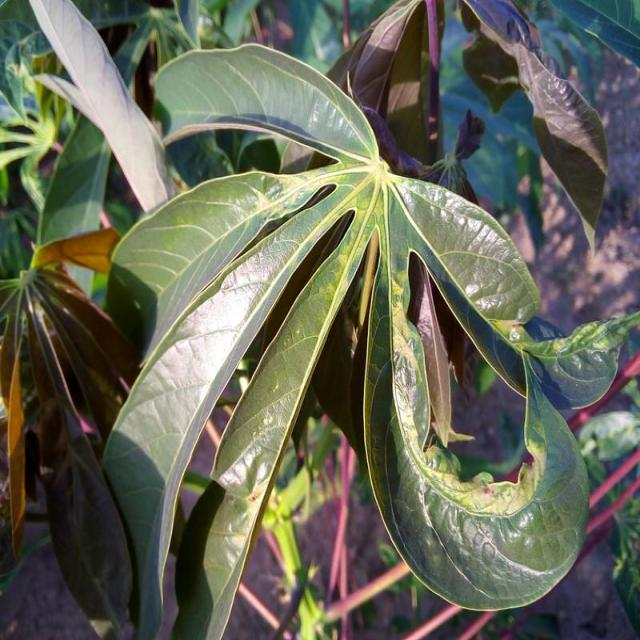cassava leaf: (93, 38, 615, 636)
